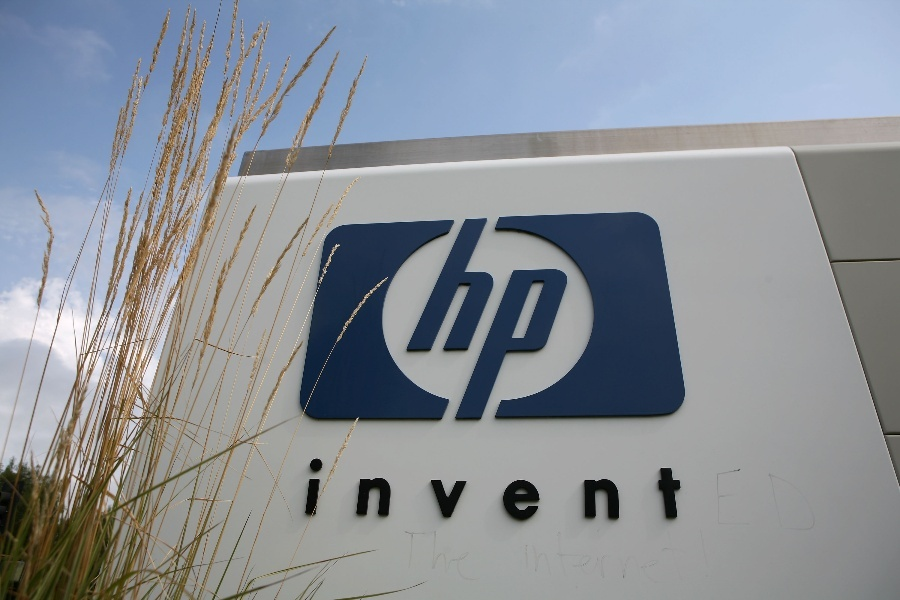text: (465, 217, 480, 422), (481, 217, 496, 422), (497, 217, 512, 422), (513, 217, 528, 422), (529, 217, 544, 422), (545, 217, 560, 422), (561, 217, 576, 422), (577, 217, 586, 422), (801, 468, 817, 534), (721, 468, 736, 534), (737, 468, 752, 534), (753, 468, 768, 534), (769, 468, 784, 534), (785, 468, 800, 534), (673, 528, 689, 588), (321, 458, 336, 520), (337, 458, 352, 520), (353, 458, 368, 520), (369, 458, 384, 520), (385, 458, 400, 520), (401, 458, 416, 520), (417, 458, 432, 520), (433, 458, 448, 520), (449, 458, 464, 520), (465, 458, 480, 520), (481, 458, 496, 520), (497, 458, 512, 520), (513, 458, 528, 520), (529, 458, 544, 520), (545, 458, 560, 520), (561, 458, 576, 520), (577, 458, 592, 520), (593, 458, 608, 520), (609, 458, 624, 520), (625, 458, 640, 520), (641, 458, 656, 520), (657, 458, 672, 520), (529, 528, 544, 588), (545, 528, 560, 588), (561, 528, 576, 588), (577, 528, 592, 588), (593, 528, 608, 588), (609, 528, 624, 588), (625, 528, 640, 588), (641, 528, 656, 588), (657, 528, 672, 588), (417, 529, 432, 584), (433, 529, 448, 584), (449, 529, 464, 584), (673, 458, 686, 520), (705, 527, 719, 583), (402, 529, 416, 584), (465, 529, 479, 584), (691, 527, 704, 583), (309, 458, 320, 520), (517, 528, 528, 588), (463, 217, 464, 422), (717, 468, 720, 534)
